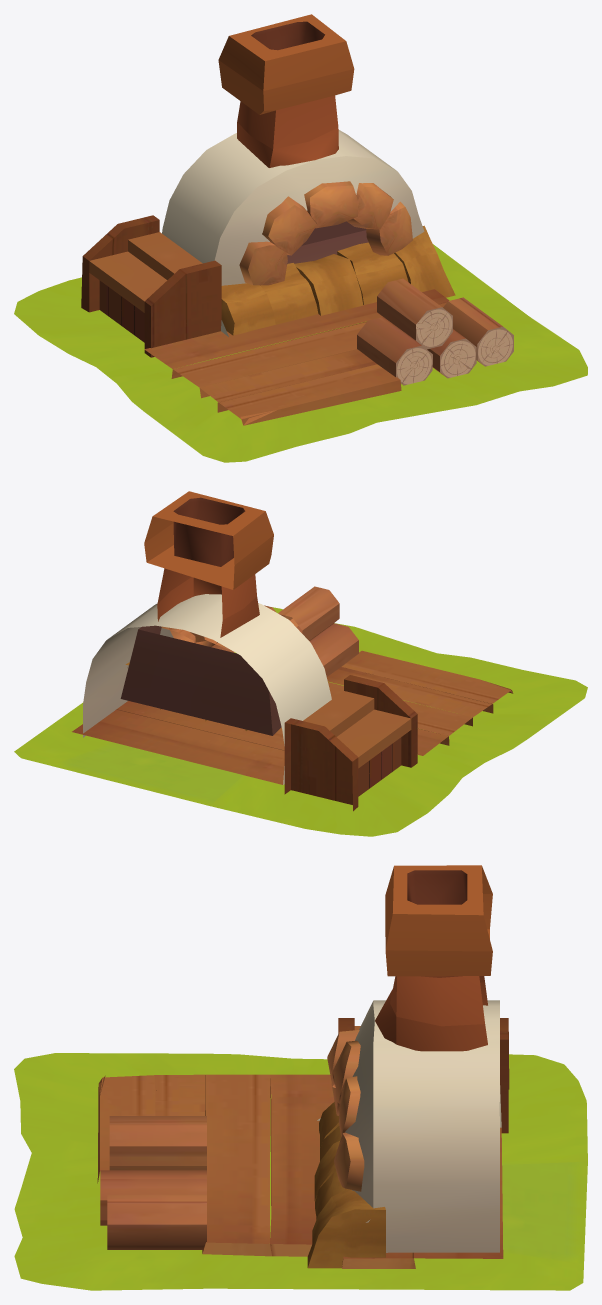
Rendered from Bakery.FBX.
3 renders of one model, top to bottom at view 1: azimuth 30°, elevation 25°; view 2: azimuth 150°, elevation 25°; view 3: azimuth 270°, elevation 25°, orthographic. The views are drawn at different scales.
Visible parts, largest first — view 1: Dynamic; view 2: Dynamic; view 3: Dynamic.
Part boxes in pixels (box(x1,y1,x2,y2)): Dynamic: box(14, 14, 587, 462); Dynamic: box(14, 491, 587, 836); Dynamic: box(14, 865, 587, 1290).
Size of the model in its own units: 39.55 by 24.68 by 40.37.
